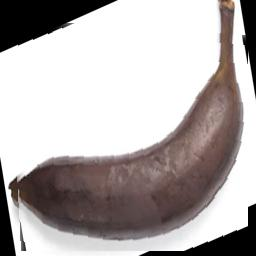Banana Rotten: (10, 19, 249, 251)
